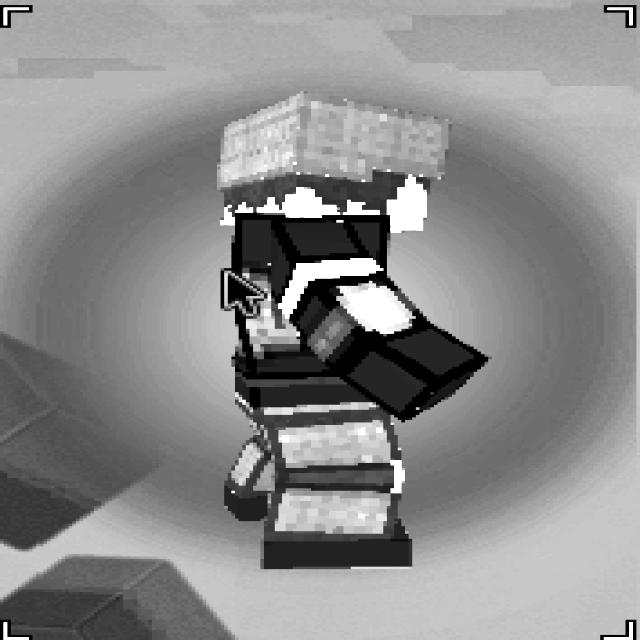Head: (210, 87, 456, 233)
Player: (210, 89, 488, 569)
